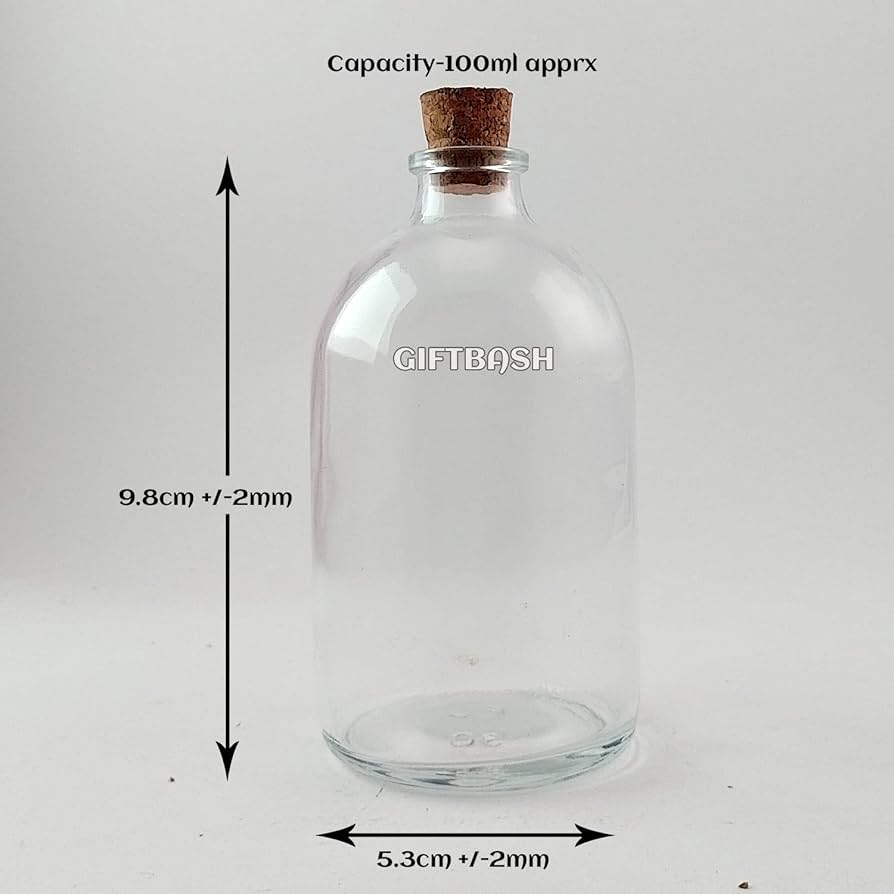glass_bottle: (297, 85, 649, 803)
